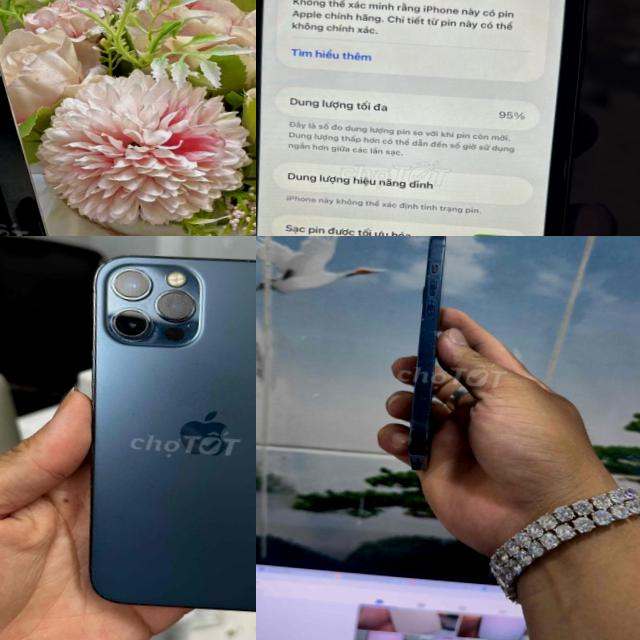gen_11: (256, 0, 603, 236)
gen_12_13: (60, 236, 256, 631), (393, 236, 472, 473)
scratch: (412, 247, 449, 414)
